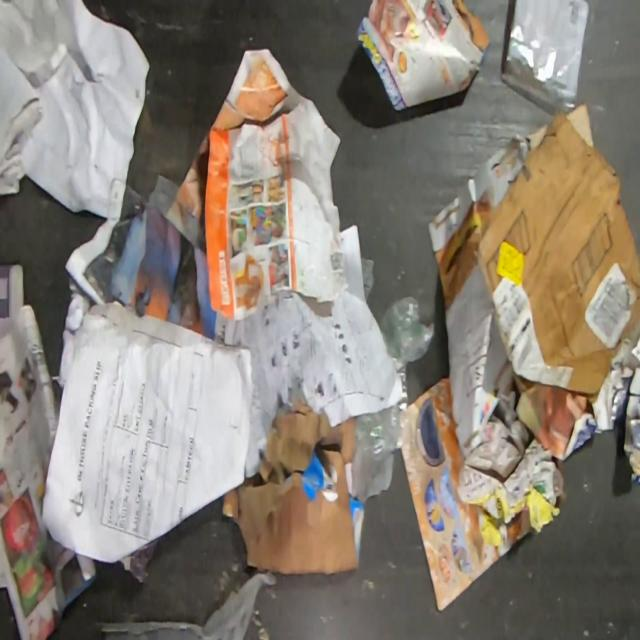cardboard: (477, 100, 640, 403), (221, 392, 366, 575), (514, 314, 640, 487)
soft_plastic: (350, 295, 437, 503), (94, 569, 278, 640), (500, 0, 590, 116)
